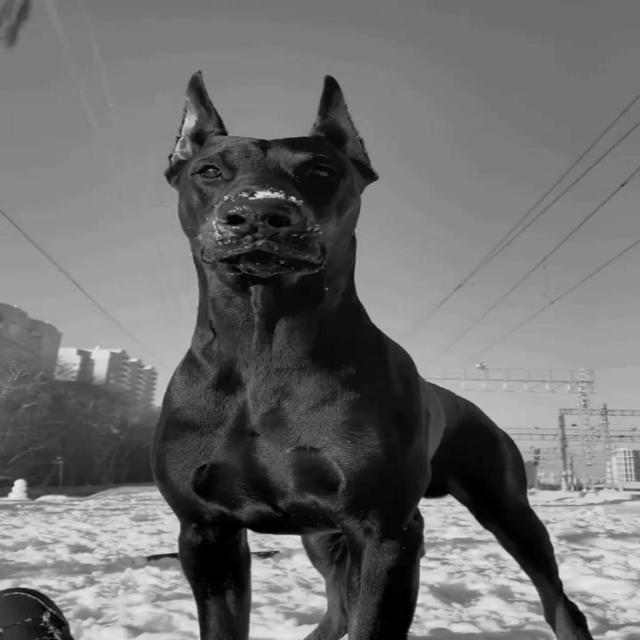Dogs: (142, 52, 588, 640)
